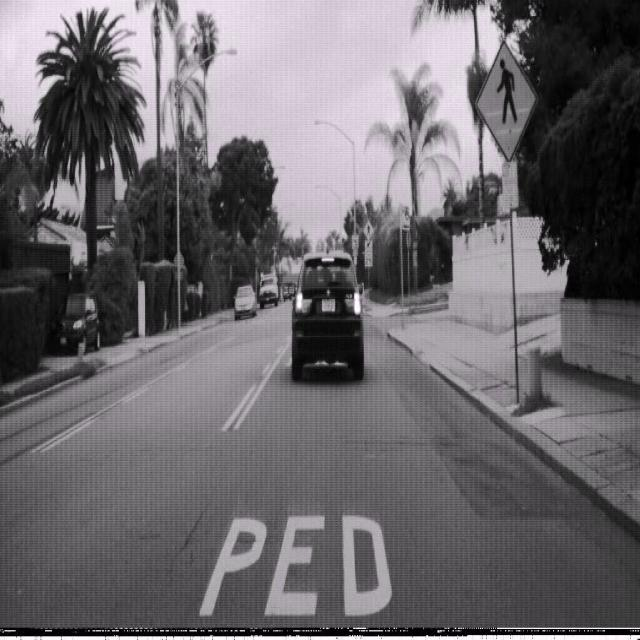pedestrianCrossing: (475, 38, 537, 162)
